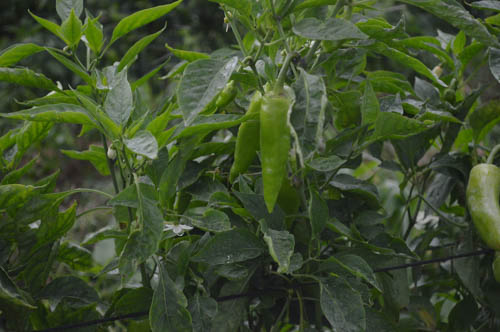ChiliPepper: (257, 94, 297, 222), (463, 153, 500, 255), (231, 95, 263, 186)
